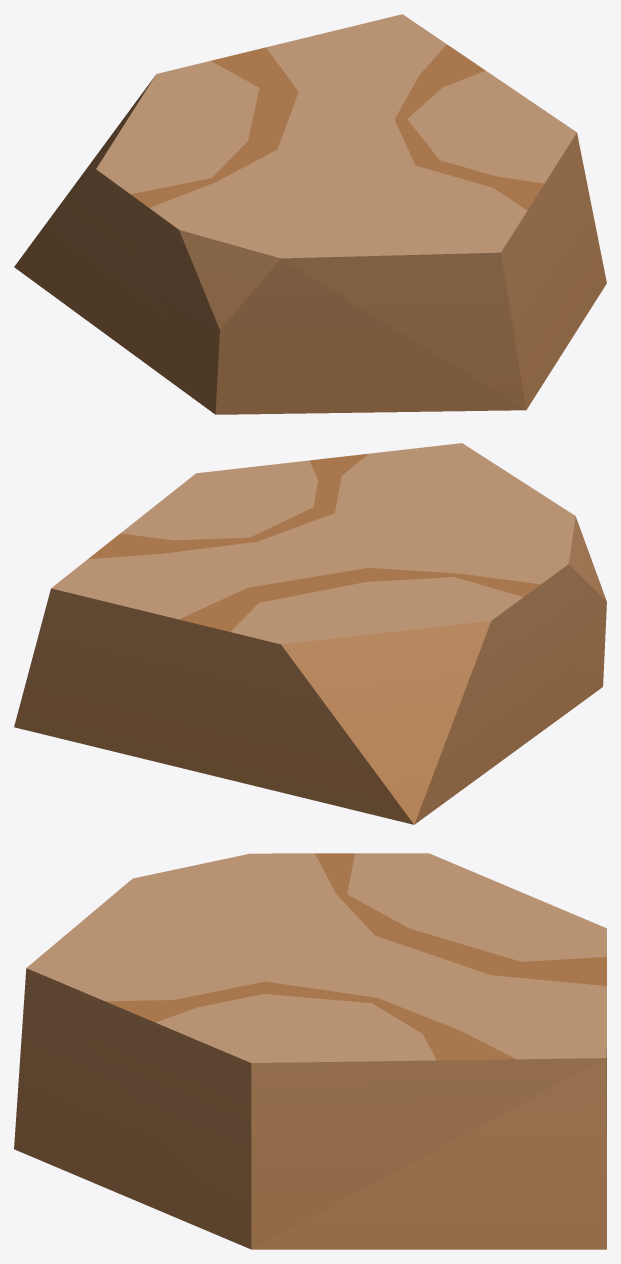
The model's file is ancient-stone-4.glb.
3 views of the same model, one above another, from view 1: azimuth 30°, elevation 25°; view 2: azimuth 150°, elevation 25°; view 3: azimuth 270°, elevation 25° (orthographic). The views are drawn at different scales.
Visible parts, largest first — view 1: ancient stone 4; view 2: ancient stone 4; view 3: ancient stone 4.
Boxes of the visible parts, x1=… form: ancient stone 4: x1=14, y1=14, x2=606, y2=414; ancient stone 4: x1=14, y1=443, x2=606, y2=824; ancient stone 4: x1=14, y1=853, x2=606, y2=1249.
Size of the model in its own units: 1.19 by 0.4191 by 1.32.
Materials: 1 (1 with a texture image).
